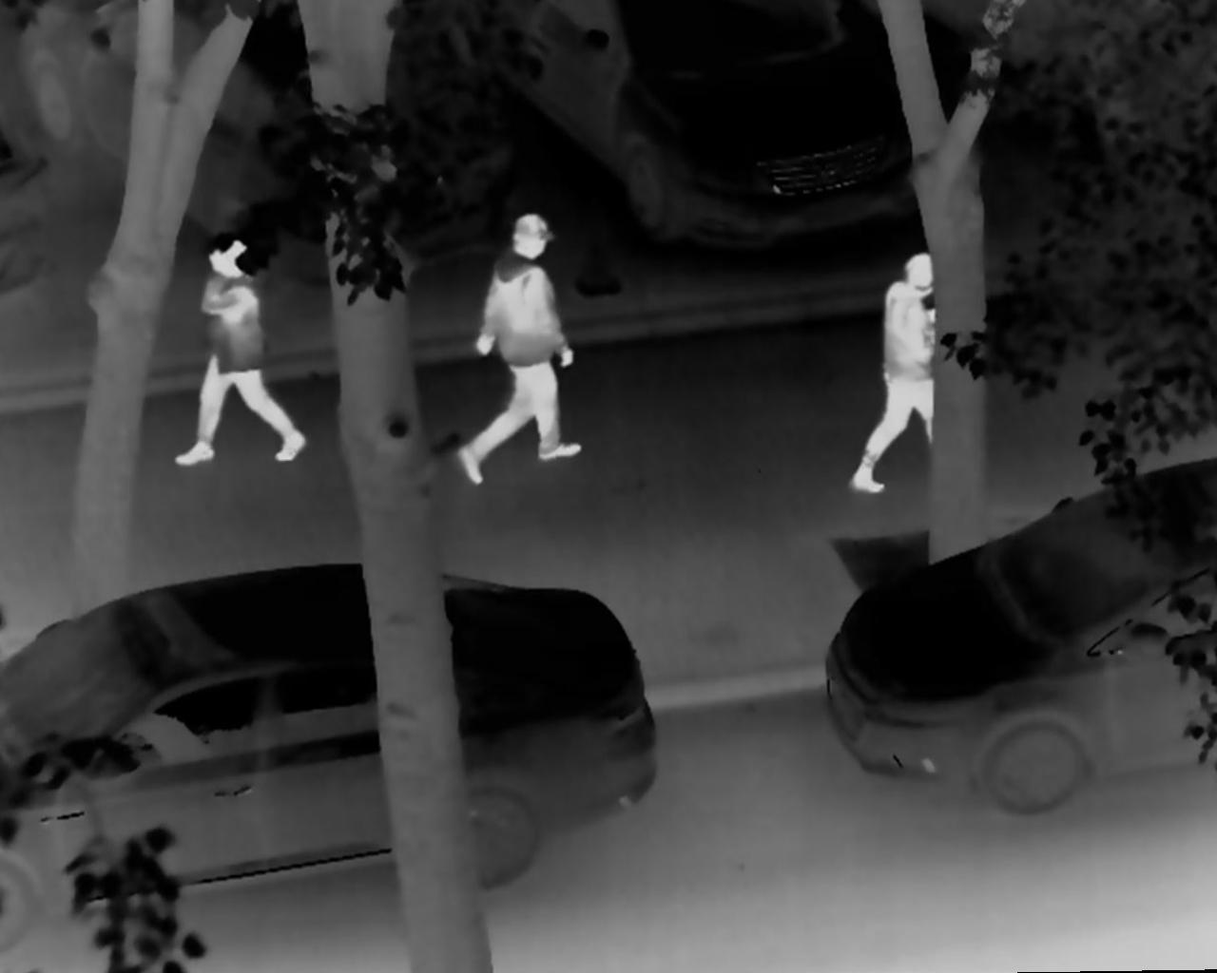person: (446, 217, 593, 486), (845, 239, 971, 502), (170, 232, 308, 468)
